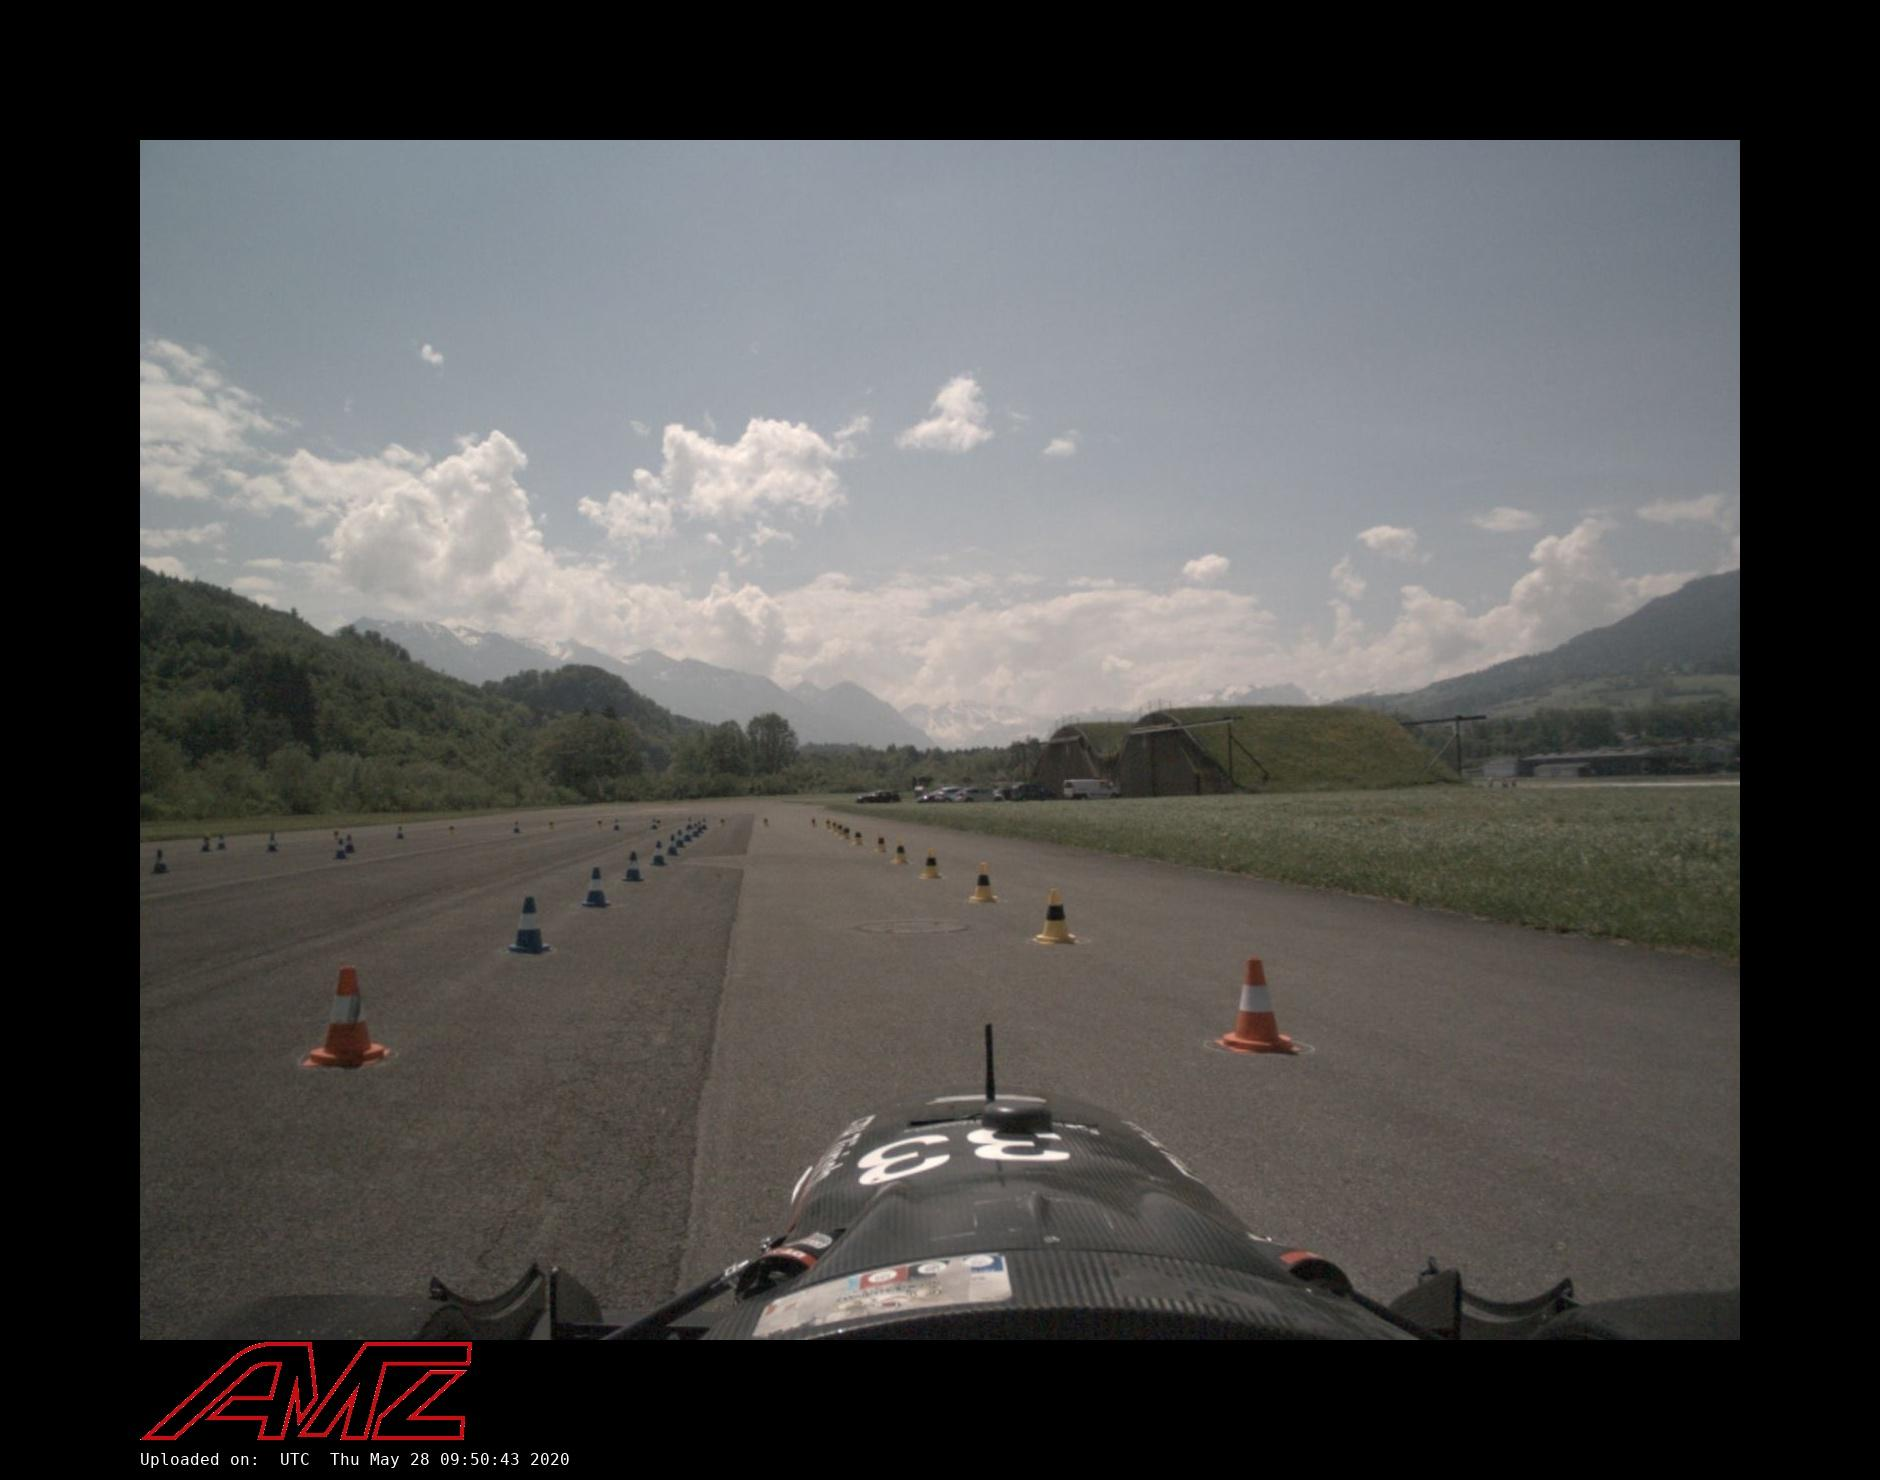blue_cone: (507, 896, 552, 954), (581, 867, 612, 906), (623, 851, 644, 882), (650, 841, 668, 867), (153, 850, 169, 874), (665, 835, 679, 856), (333, 838, 346, 859), (343, 835, 356, 854), (266, 833, 278, 851), (674, 828, 685, 848), (201, 835, 214, 851), (217, 835, 226, 850), (691, 822, 699, 838), (684, 827, 691, 841), (397, 825, 404, 839), (696, 821, 703, 833), (513, 821, 520, 833), (613, 819, 620, 832), (700, 819, 708, 828), (687, 818, 693, 828), (652, 819, 658, 830)
orange_cone: (302, 964, 391, 1070), (1218, 960, 1302, 1054)
yellow_cone: (1035, 890, 1074, 944), (969, 864, 996, 903), (920, 848, 942, 879), (891, 838, 909, 864), (874, 835, 887, 853), (853, 828, 865, 845), (842, 825, 851, 842), (761, 816, 771, 828), (838, 824, 844, 838), (548, 819, 555, 830), (333, 830, 340, 841), (810, 816, 816, 828), (832, 821, 838, 832), (449, 824, 455, 835), (826, 819, 832, 828), (720, 818, 726, 827), (597, 819, 603, 828)
